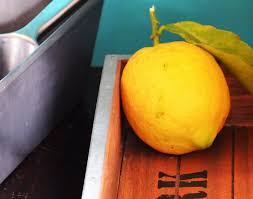lemon: (113, 34, 233, 154)
